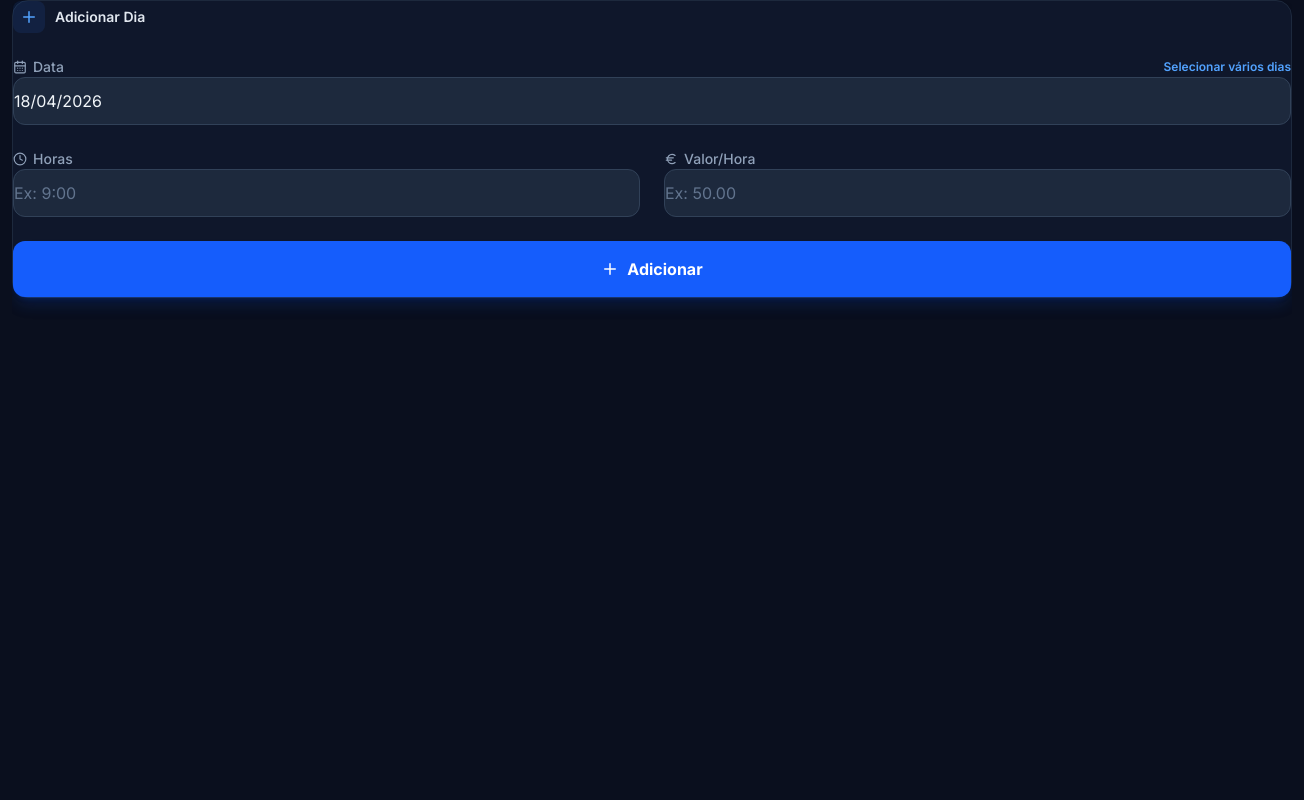
Test case: AddEntryCard (unit) › should toggle to multi-mode and back
Step 1. Click the button "Selecionar vários dias" → (1227, 67), box [1164, 59, 1291, 75]
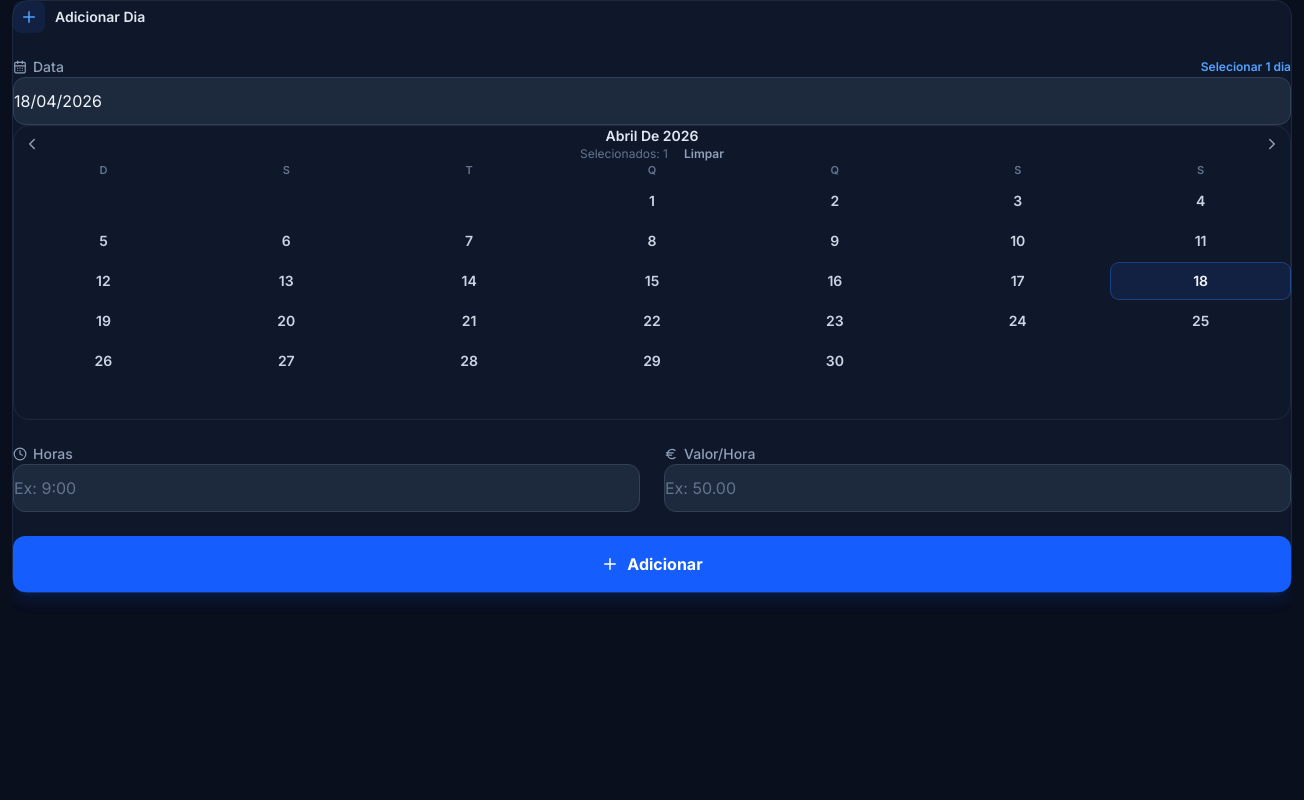
Check: the button "Selecionar 1 dia" is shown
Step 2. Click the button "Selecionar 1 dia" → (1246, 67), box [1201, 59, 1291, 75]
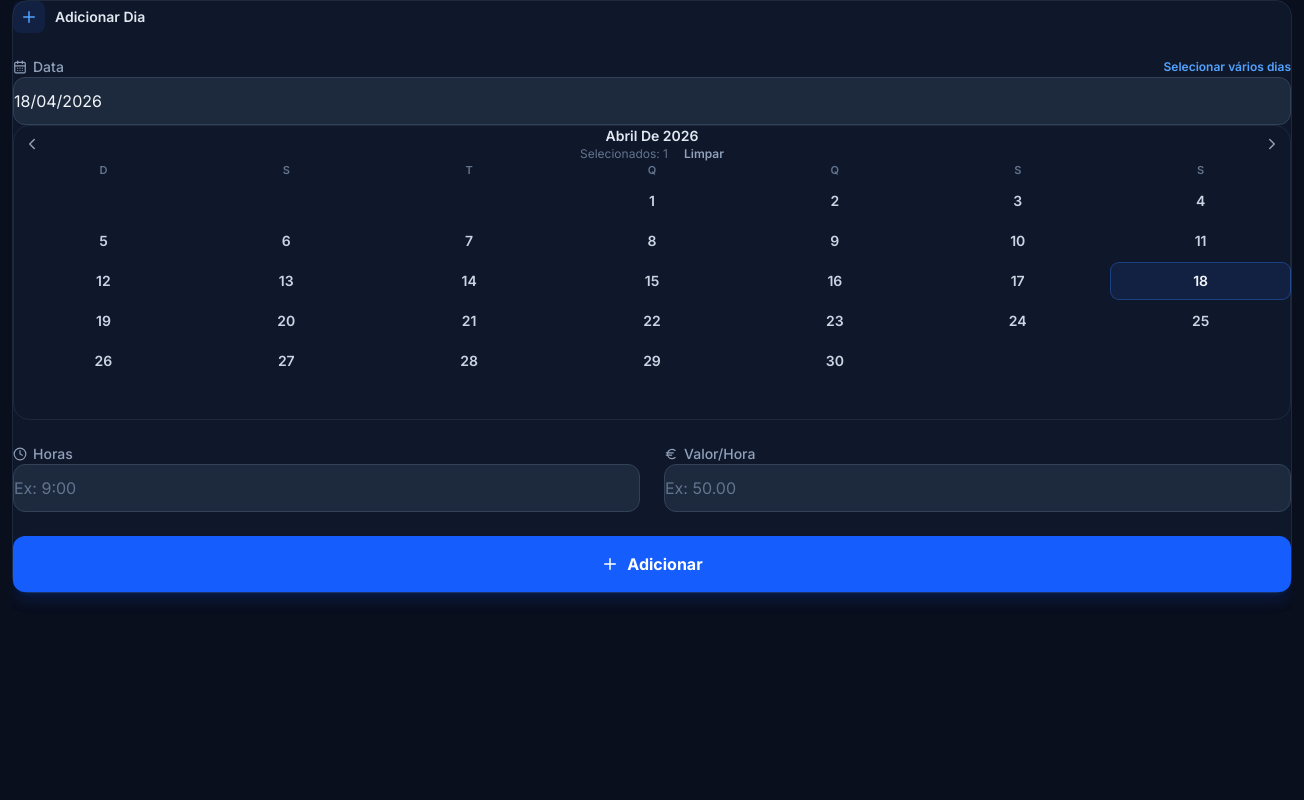
Check: the button "Selecionar vários dias" is shown, box [1164, 59, 1291, 75]
